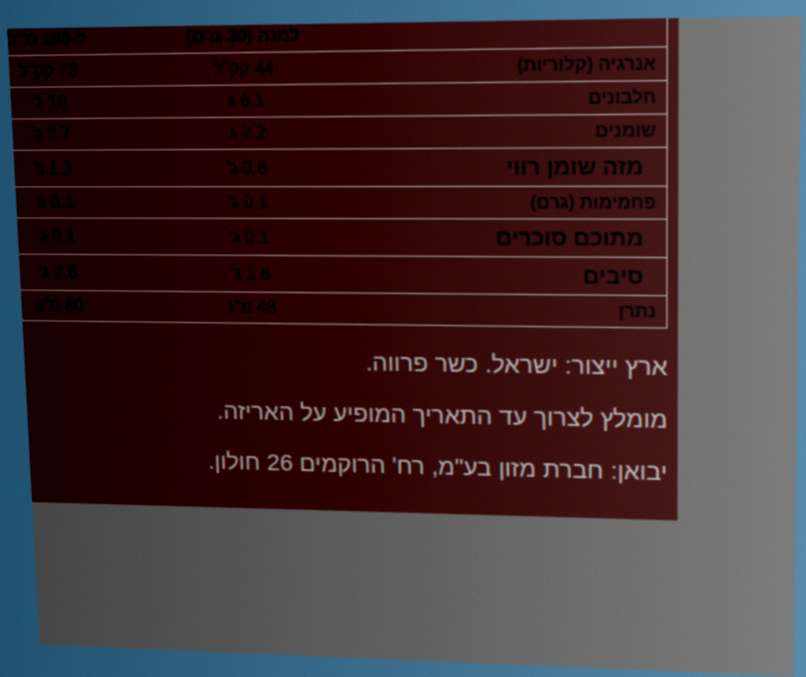carbs: (33, 191, 76, 213)
energy: (16, 59, 80, 83)
fat: (29, 122, 73, 146)
protein: (30, 91, 69, 114)
